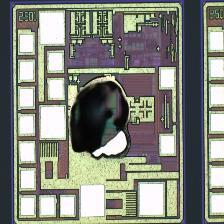BLOCK ETCH: (64, 74, 142, 166)
